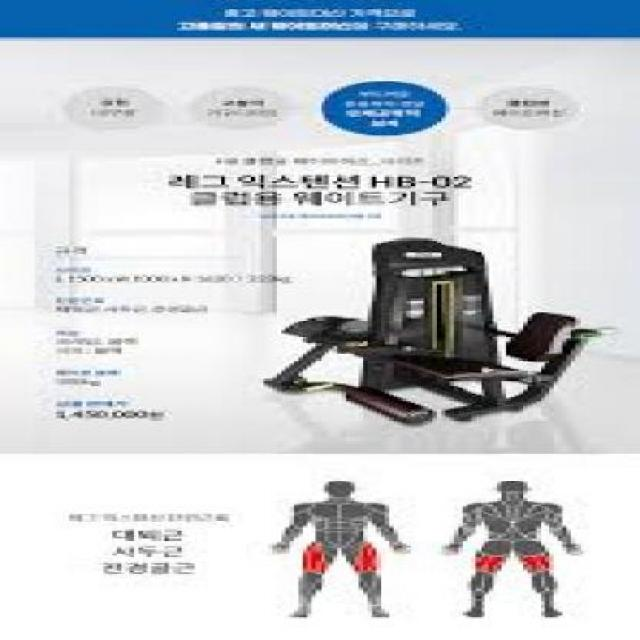leg extension: (249, 226, 622, 442)
